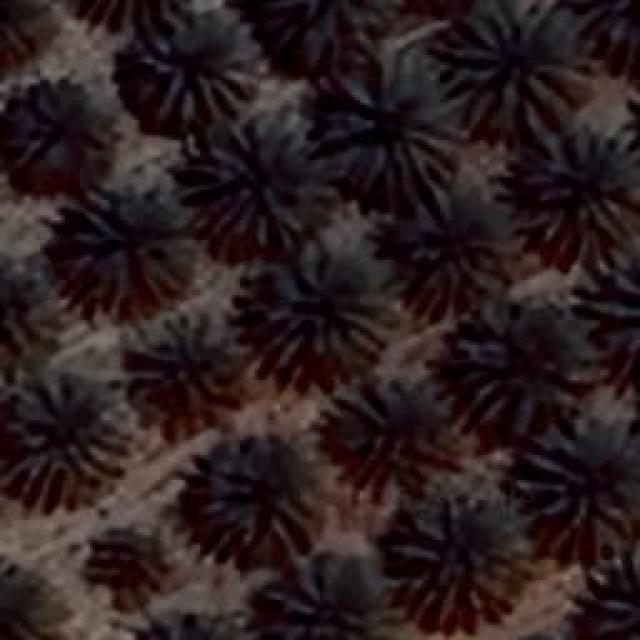PalmTree: (30, 75, 611, 601), (182, 115, 320, 250), (437, 0, 577, 132), (320, 55, 455, 190), (448, 295, 590, 423), (388, 498, 530, 620), (512, 120, 638, 255), (260, 238, 395, 360), (67, 185, 195, 310), (8, 375, 132, 503), (520, 412, 638, 530), (400, 185, 510, 310), (140, 10, 258, 125), (192, 442, 310, 548), (340, 379, 460, 479), (125, 308, 240, 402), (266, 565, 392, 640), (18, 78, 110, 176), (257, 0, 385, 58), (85, 524, 165, 598), (0, 259, 48, 359), (60, 0, 194, 27), (574, 0, 640, 54), (130, 613, 258, 640), (0, 0, 47, 66)
